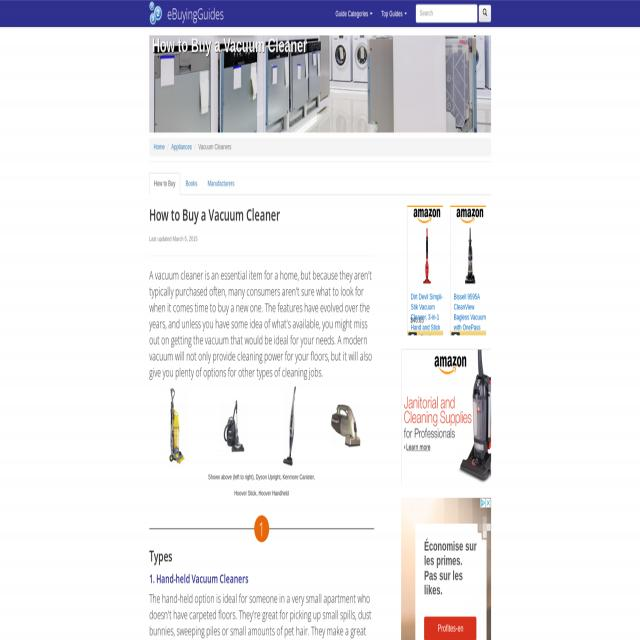button: (149, 34, 491, 132), (402, 497, 491, 640), (401, 349, 493, 485), (407, 204, 448, 336), (450, 205, 487, 336), (165, 386, 189, 466), (218, 399, 248, 453), (331, 404, 361, 448), (424, 616, 476, 640), (331, 0, 377, 27), (283, 386, 297, 466), (377, 0, 411, 27), (203, 172, 239, 195), (149, 172, 180, 195), (181, 172, 202, 195), (150, 1, 162, 25), (479, 5, 491, 22), (486, 498, 490, 507), (481, 499, 485, 508)
field: (416, 5, 478, 22)
